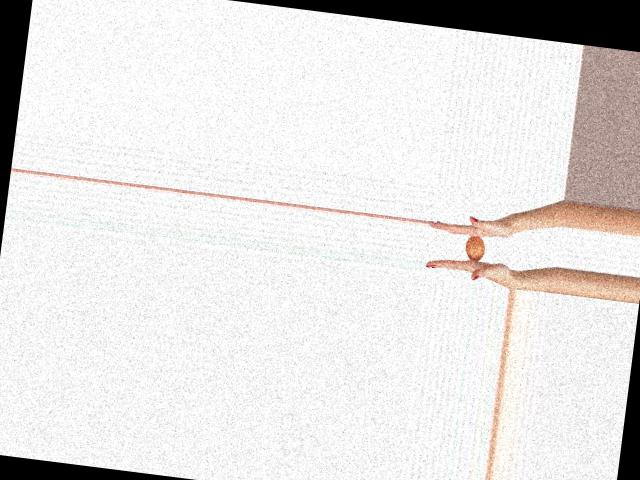egg: (465, 234, 486, 261)
